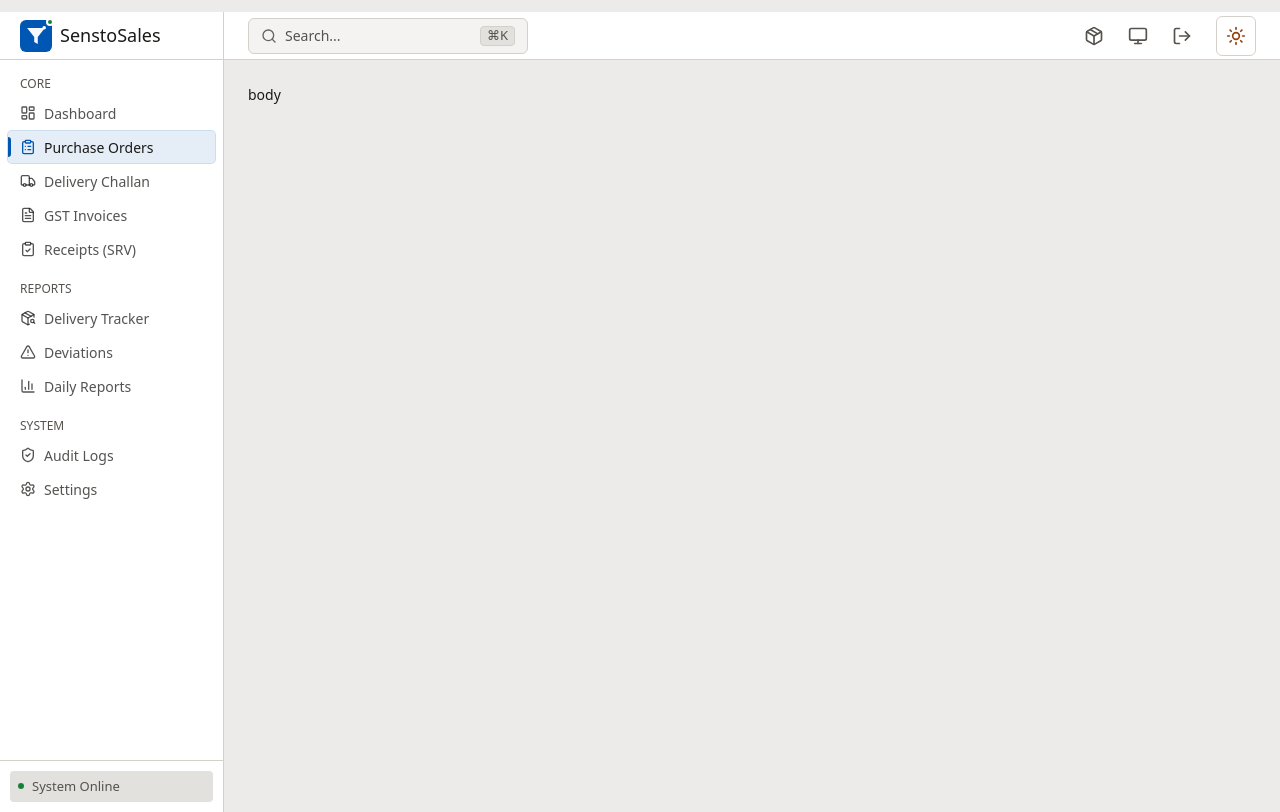
Test: AppChrome › Logout ends the session, says so and goes to the login screen
Click the button named "Logout".
click(1182, 36)  # box left=1164, top=18, right=1200, bottom=54
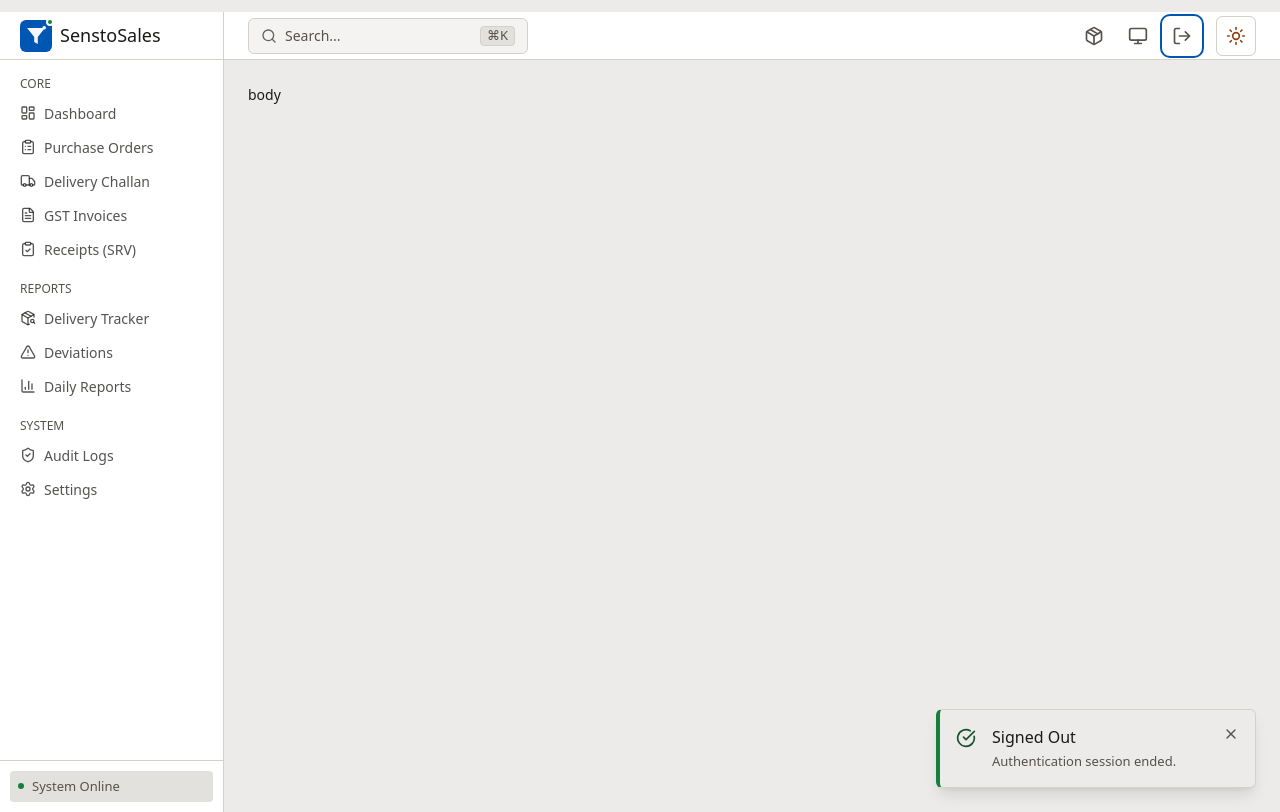
Expected: the text "Signed Out" is shown, left=992, top=726, right=1076, bottom=748
Expected: the text "Authentication session ended." is shown, left=992, top=752, right=1207, bottom=771
